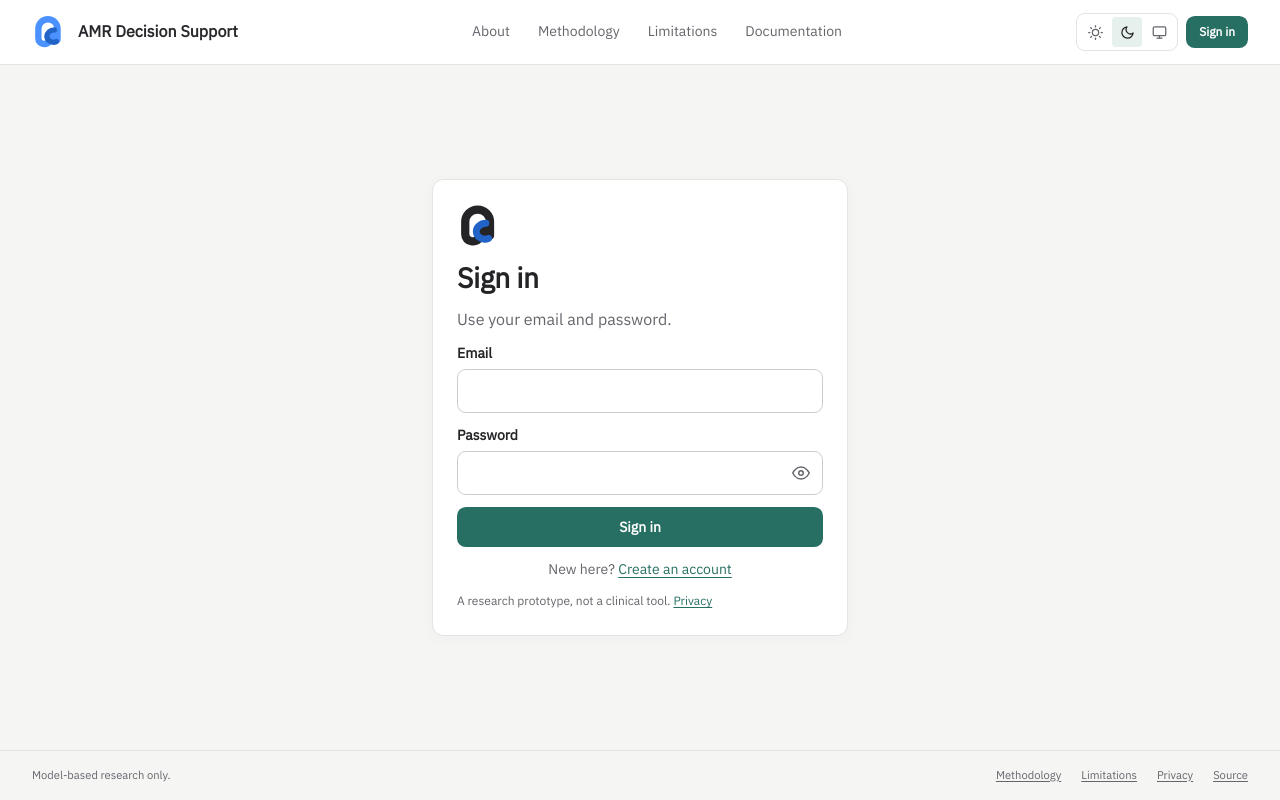
Test: email and password authentication › shows the server message for a wrong password, stays on the page, and keeps what was typed
This screenshot has width=1280, height=800.
In the field labelled "Email": (640, 391) [457,369,823,413], type "ada@example.org"
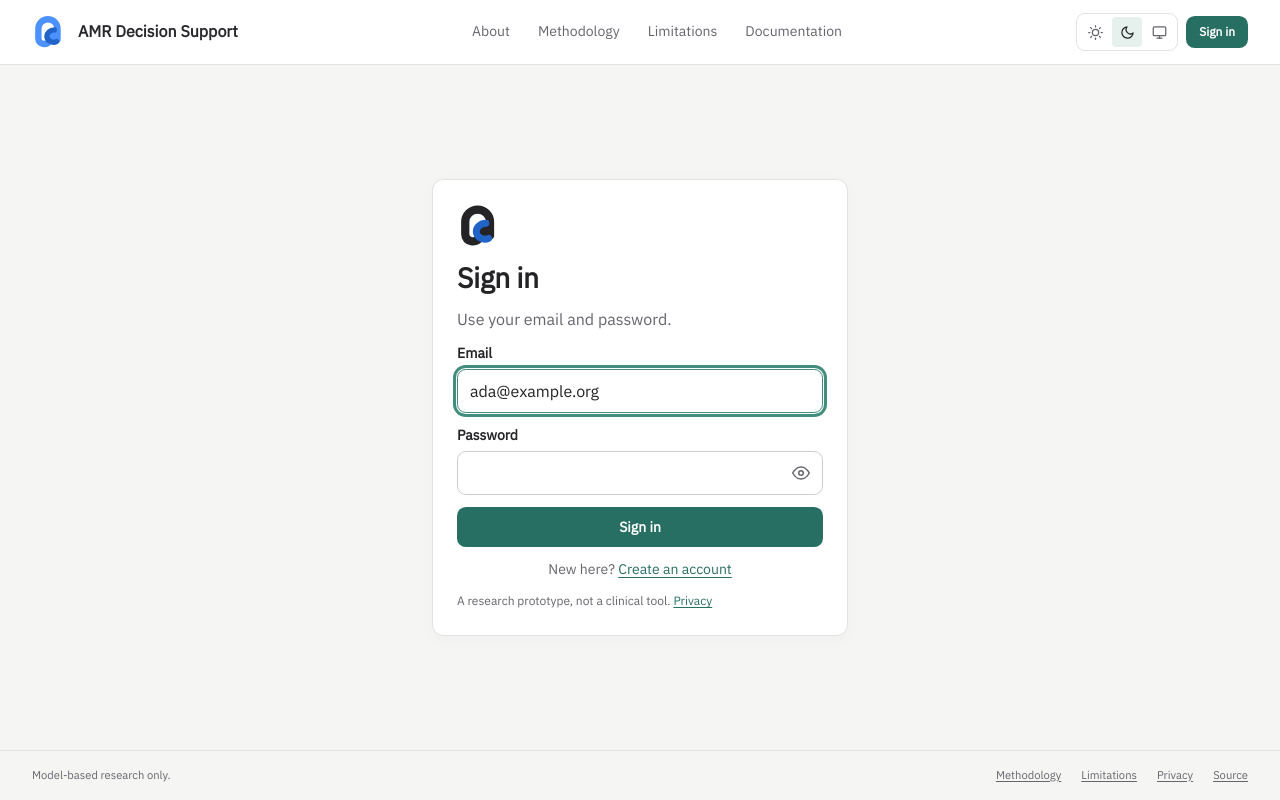
In the password field labelled "Password": (640, 473) [457,451,823,495], type "wrong password"
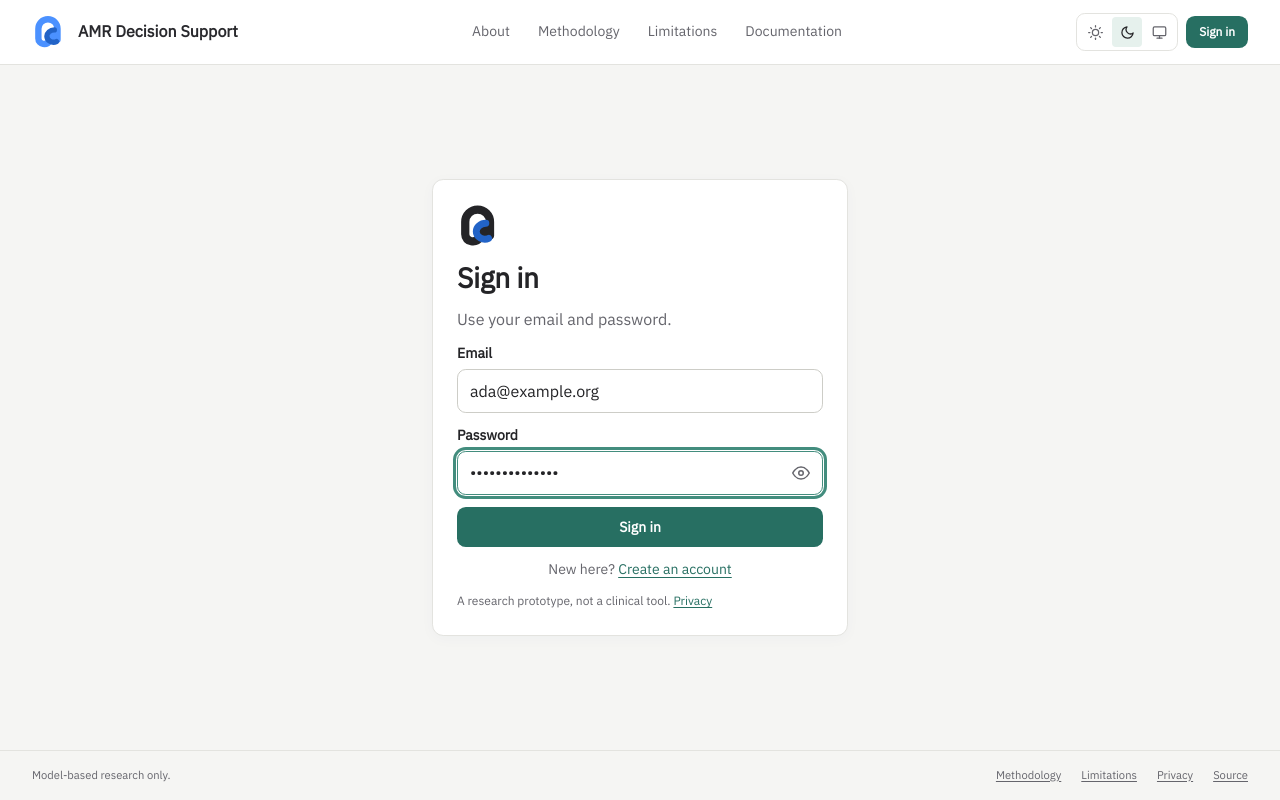
Click the button "Sign in": (640, 527) [457,507,823,547]
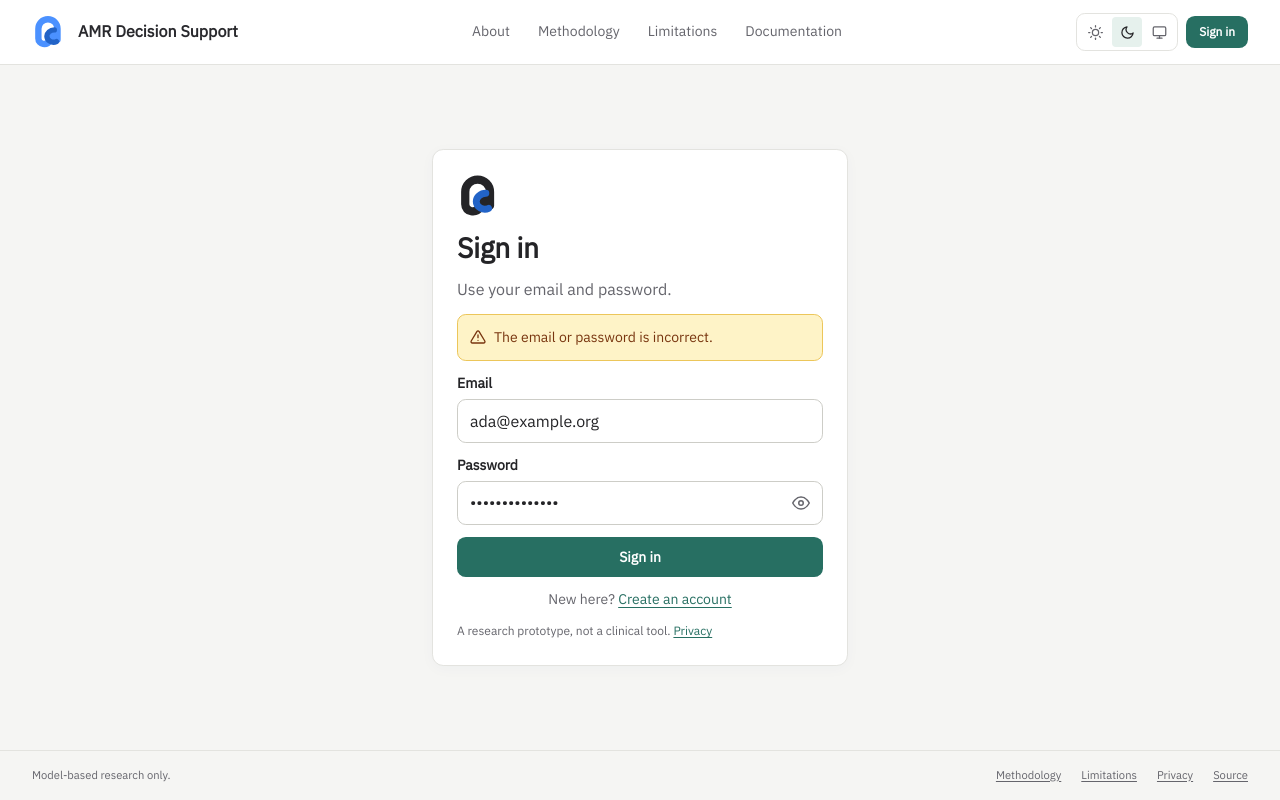
Expected: the message reads "The email or password is incorrect.", [494,328,713,346]
